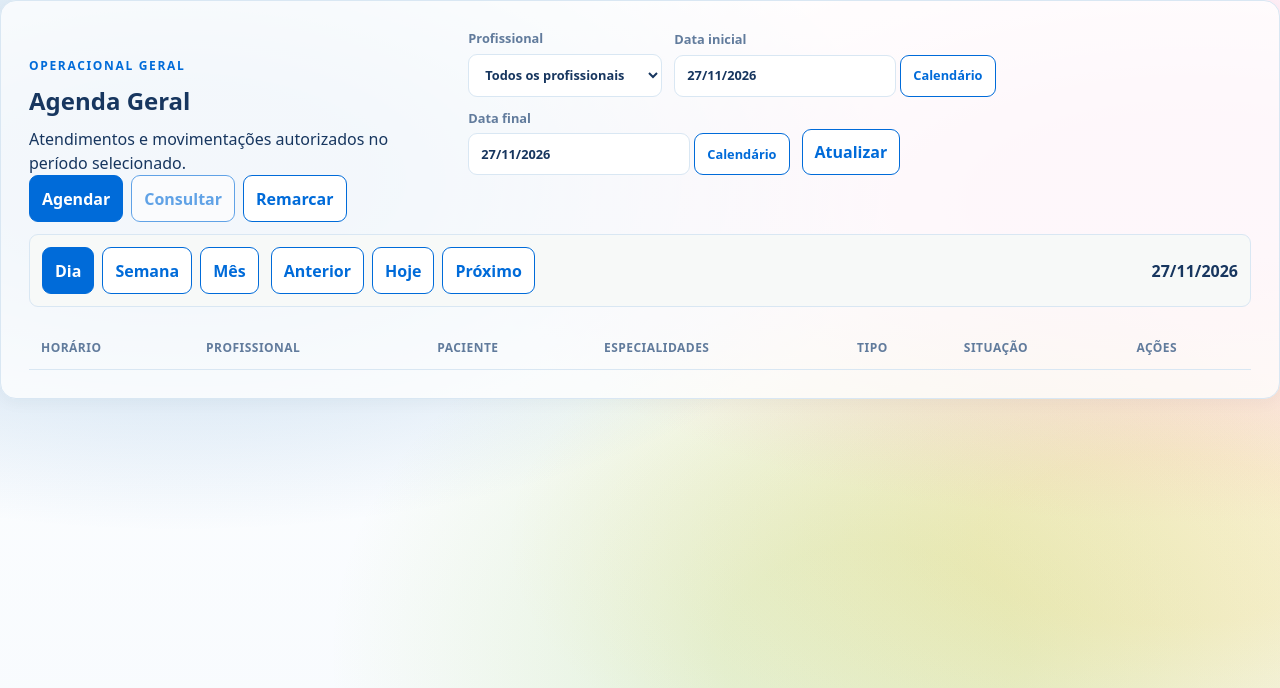
Scenario: mostra resultados homônimos com Nome, Nº CAPO e CMS para escolha explícita
The width and height of the screenshot is (1280, 688).
Later steps or results of the test are not shown.
Click the button "Agendar" at (76, 199), box x1=29 y1=175 x2=123 y2=222
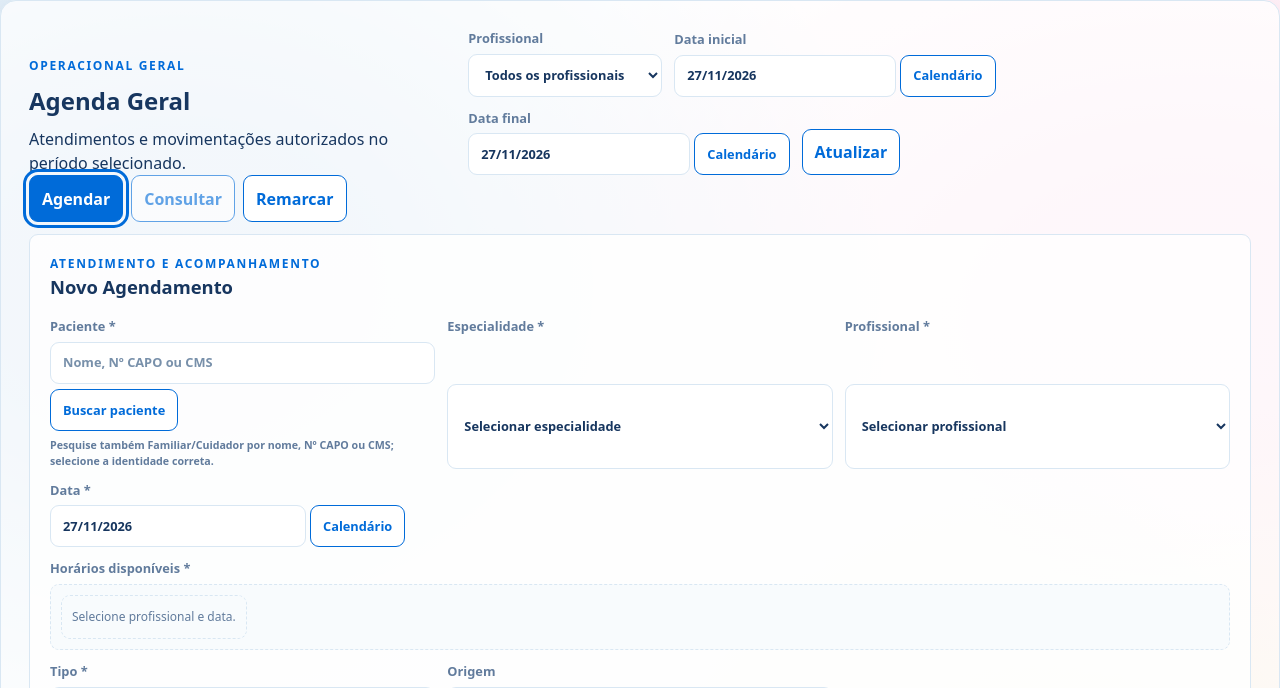
Type "Maria" into the search field with placeholder "Nome, Nº CAPO ou CMS" at (243, 362), box x1=50 y1=342 x2=435 y2=384
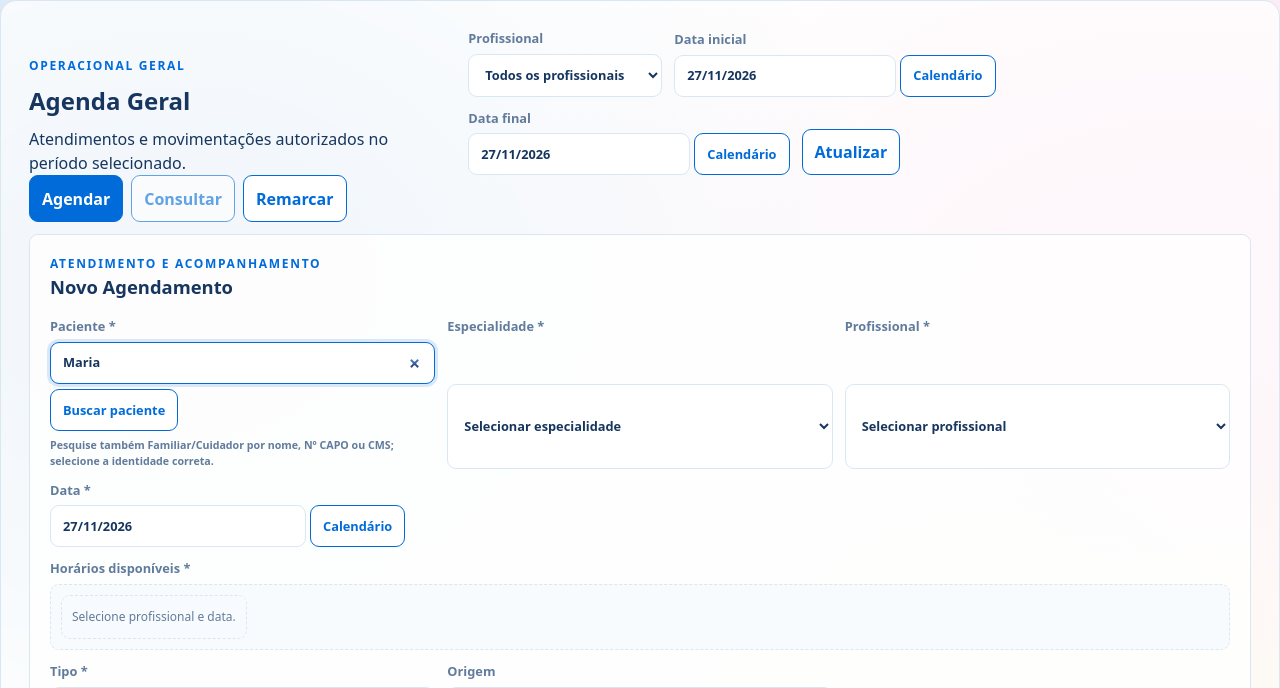
Click the button "Buscar paciente" at (114, 410), box x1=50 y1=389 x2=178 y2=431
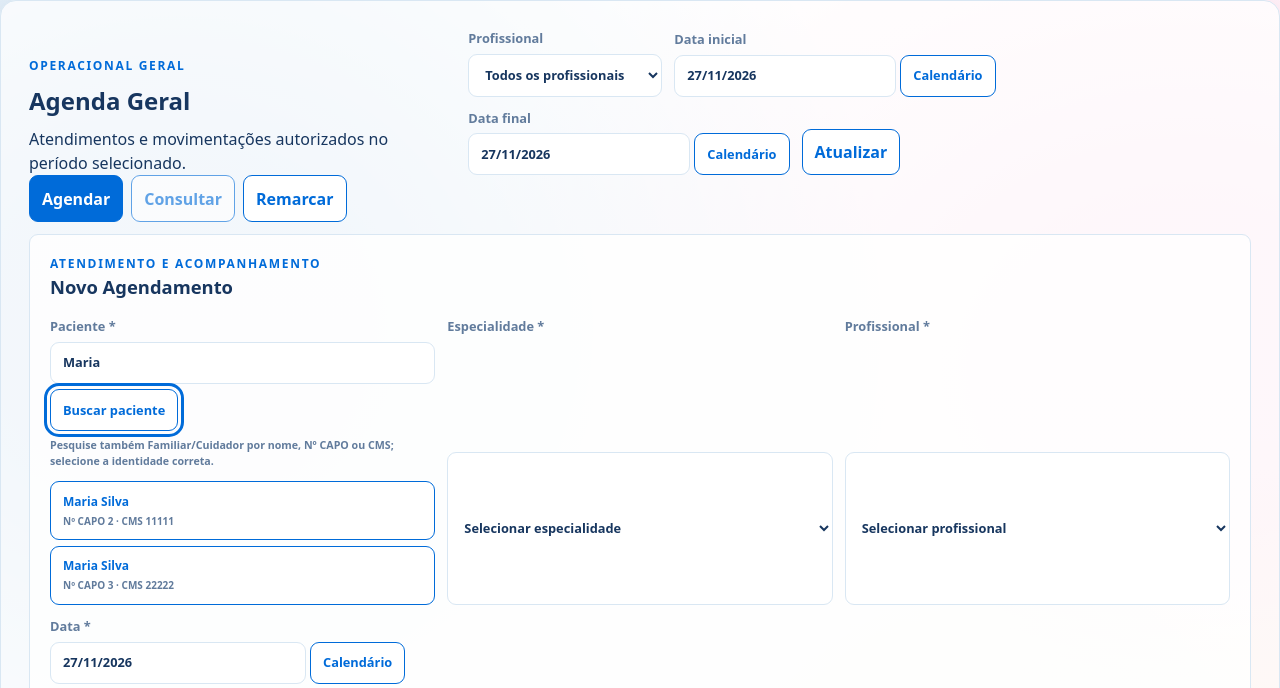
Result: the text "Nº CAPO 2 · CMS 11111" is shown at x1=63 y1=514 x2=174 y2=528
Result: the text "Nº CAPO 3 · CMS 22222" is shown at x1=63 y1=578 x2=174 y2=592
